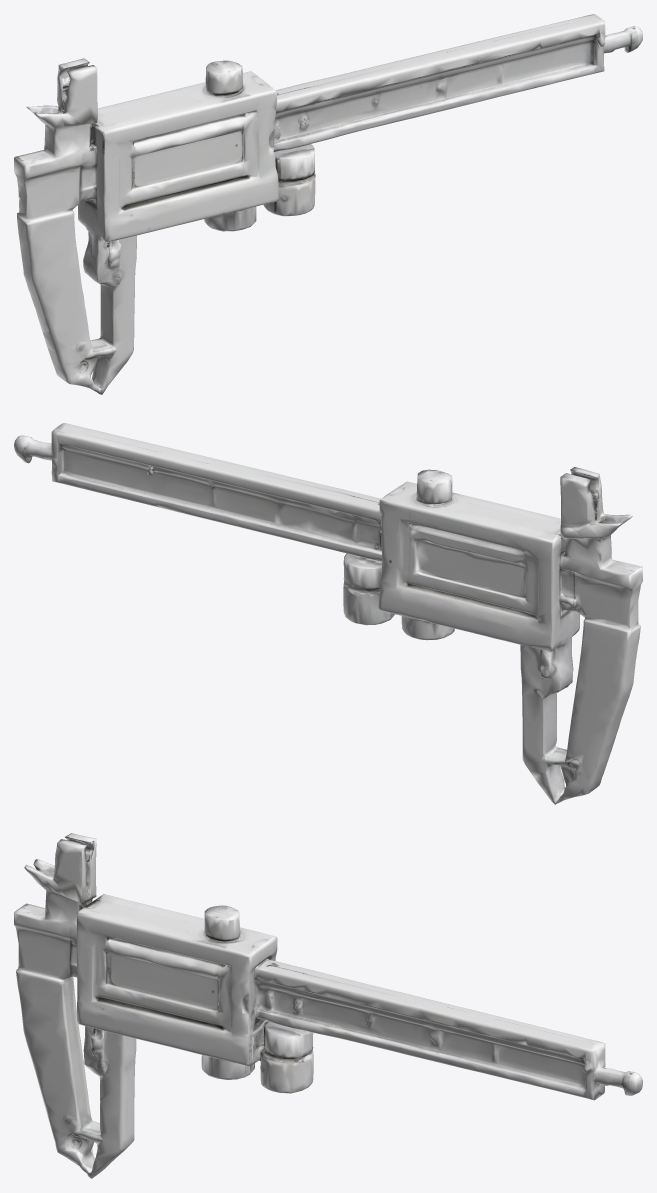
Rendered from vernier.glb.
3 renders of one model, top to bottom at view 1: azimuth 30°, elevation 25°; view 2: azimuth 150°, elevation 25°; view 3: azimuth 330°, elevation 25°, orthographic.
Bounding box in the file's own units: 2 × 1.02 × 0.1634.
Materials: 1 (1 with a texture image).
